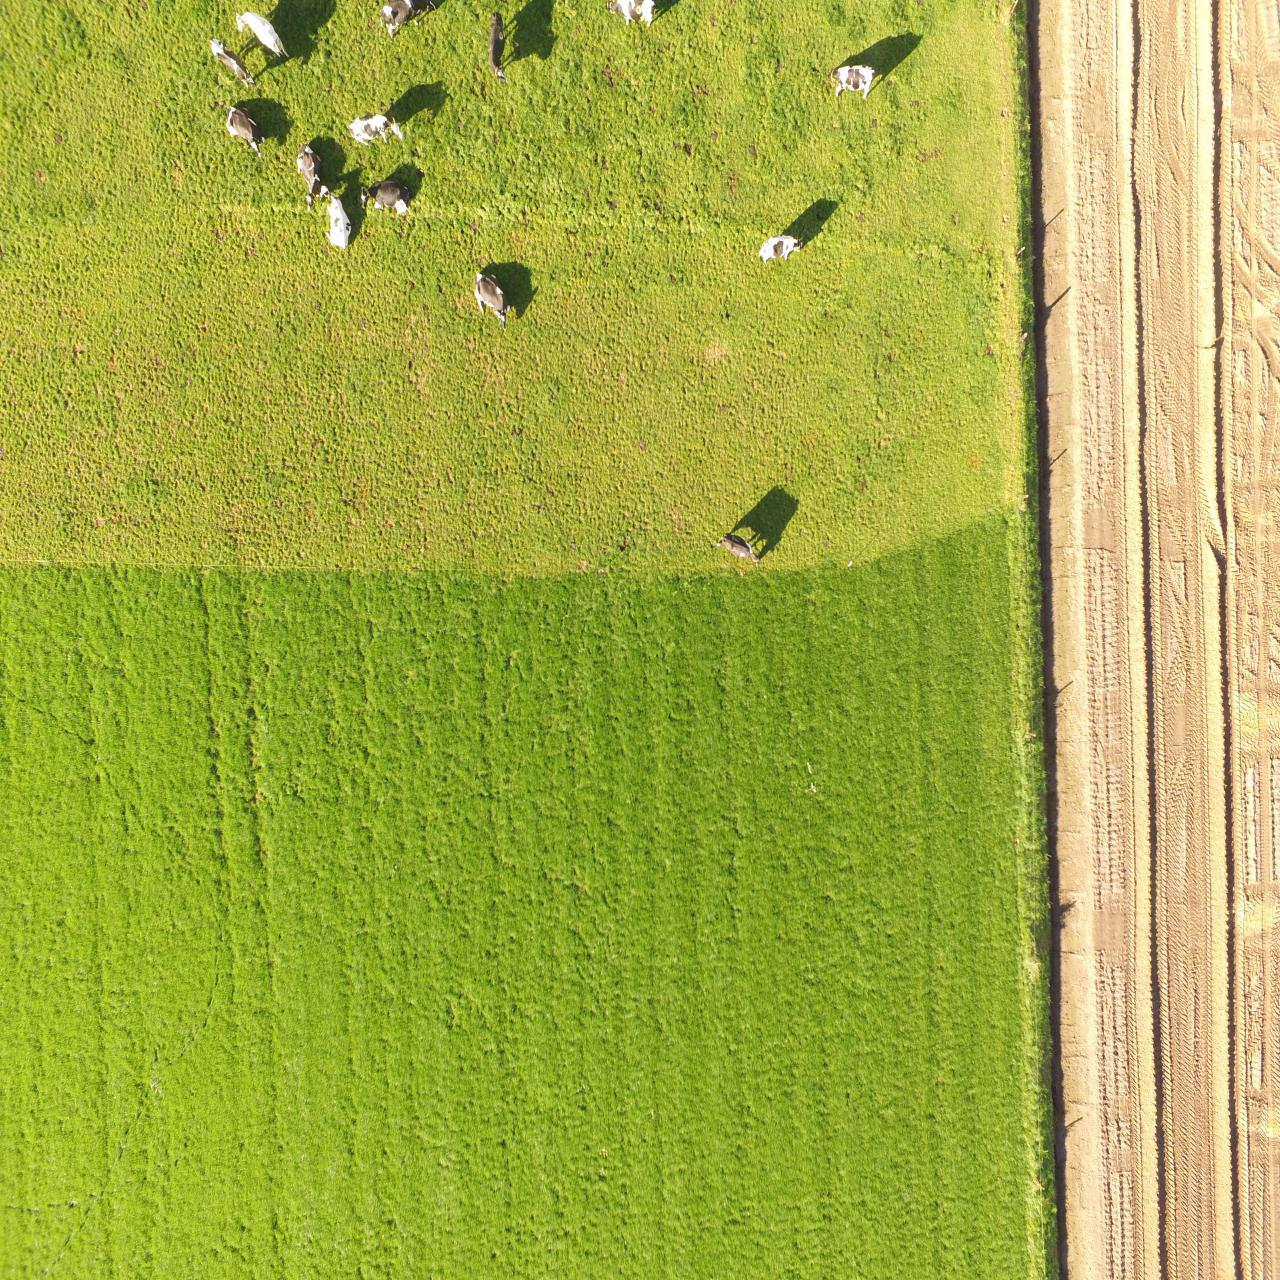cow: (234, 9, 290, 62), (220, 103, 271, 157), (207, 34, 257, 87), (293, 142, 328, 213), (471, 268, 511, 331), (379, 0, 440, 40), (360, 176, 415, 218), (714, 526, 765, 570), (318, 184, 350, 250), (826, 59, 880, 98), (348, 110, 406, 147), (753, 233, 806, 268), (604, 0, 659, 28), (488, 8, 508, 86)
